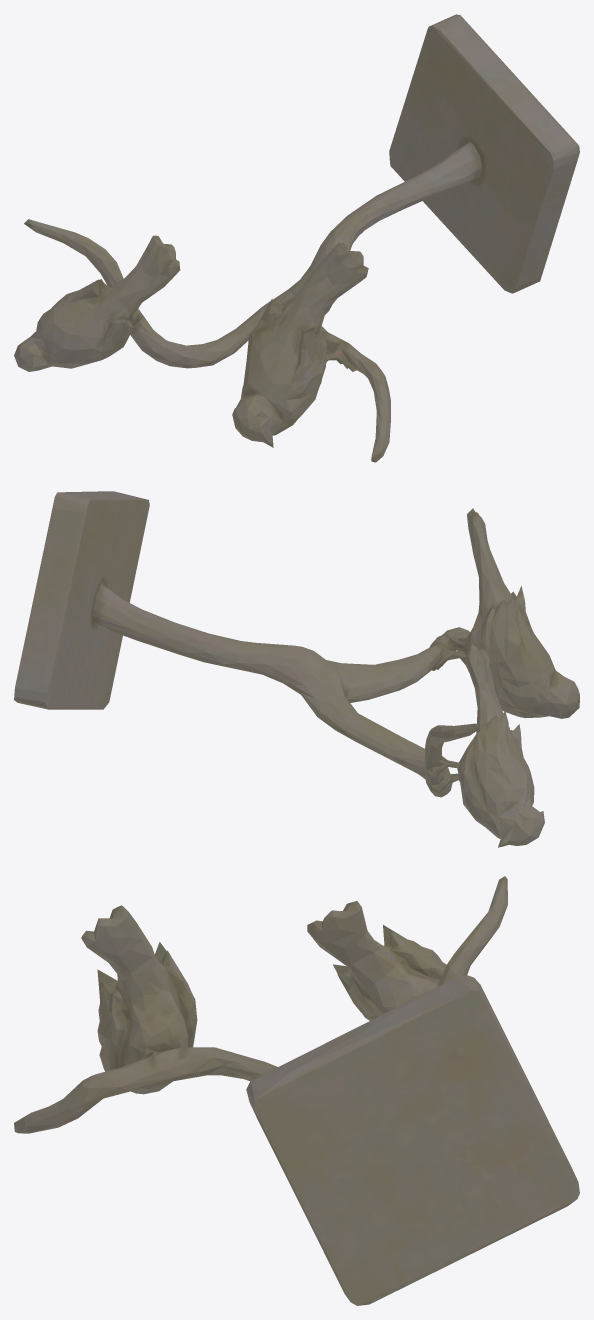
3 renders of one model, top to bottom at view 1: azimuth 30°, elevation 25°; view 2: azimuth 150°, elevation 25°; view 3: azimuth 270°, elevation 25°, orthographic. The views are drawn at different scales.
Visible parts, largest first — view 1: n1; view 2: n1; view 3: n1.
Part boxes in pixels (bbox=[...]): n1: bbox=[14, 14, 579, 462]; n1: bbox=[14, 491, 579, 847]; n1: bbox=[14, 876, 579, 1305].
Size of the model in its own units: 0.9 by 0.4353 by 0.7343.
1 material, 1 textured.
